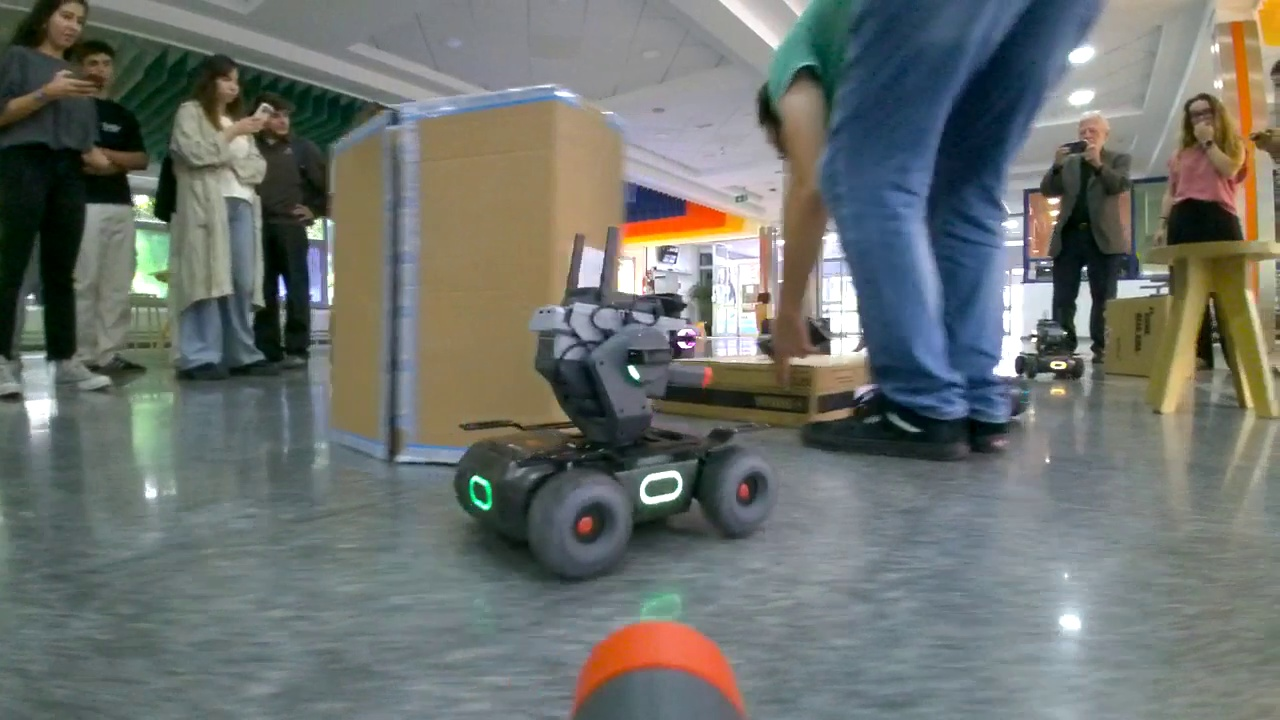robot: (453, 290, 775, 588)
